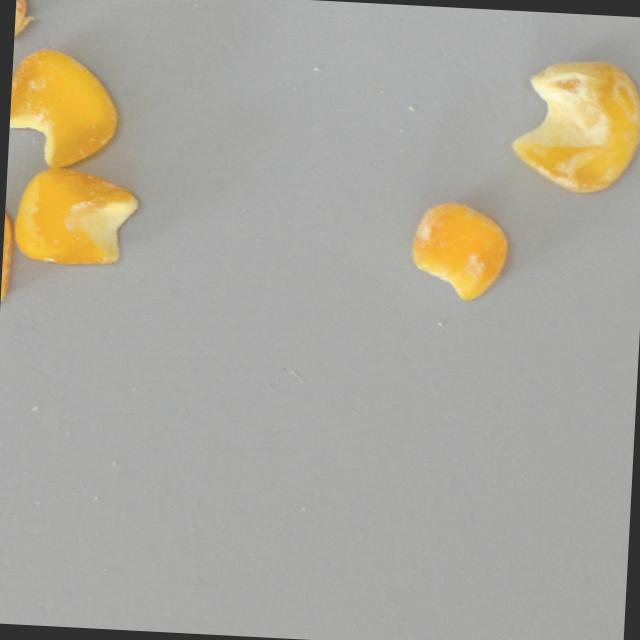dañado: (501, 53, 640, 203), (8, 41, 129, 173), (6, 164, 147, 274), (403, 193, 515, 307), (14, 0, 39, 44)
